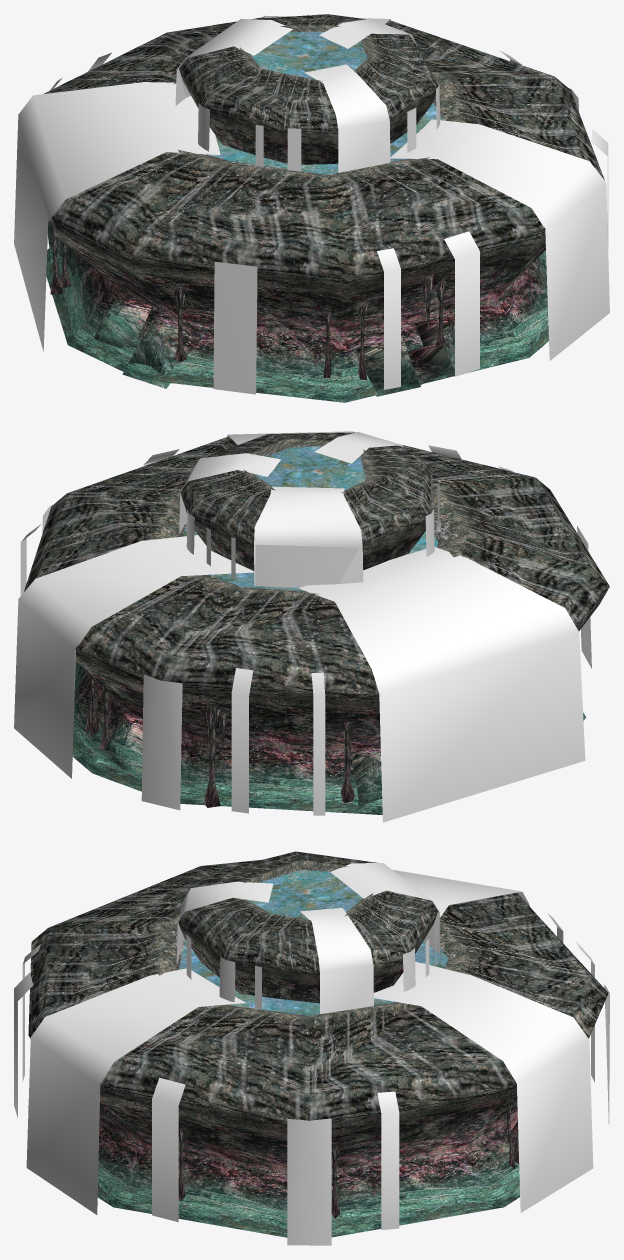
The model's file is rock_agrlt_bowl_dbl_l2.fbx.
The picture shows the model from 3 angles, top to bottom: view 1: azimuth 30°, elevation 25°; view 2: azimuth 150°, elevation 25°; view 3: azimuth 270°, elevation 25°; orthographic projection.
Parts seen in each view (by area): view 1: mesh_node; view 2: mesh_node; view 3: mesh_node.
Boxes of the visible parts, x1,y1,x2,y2 form: mesh_node: [14, 14, 609, 402]; mesh_node: [14, 431, 609, 822]; mesh_node: [14, 851, 609, 1245].
Bounding box in the file's own units: 53.74 × 23.59 × 52.39.
